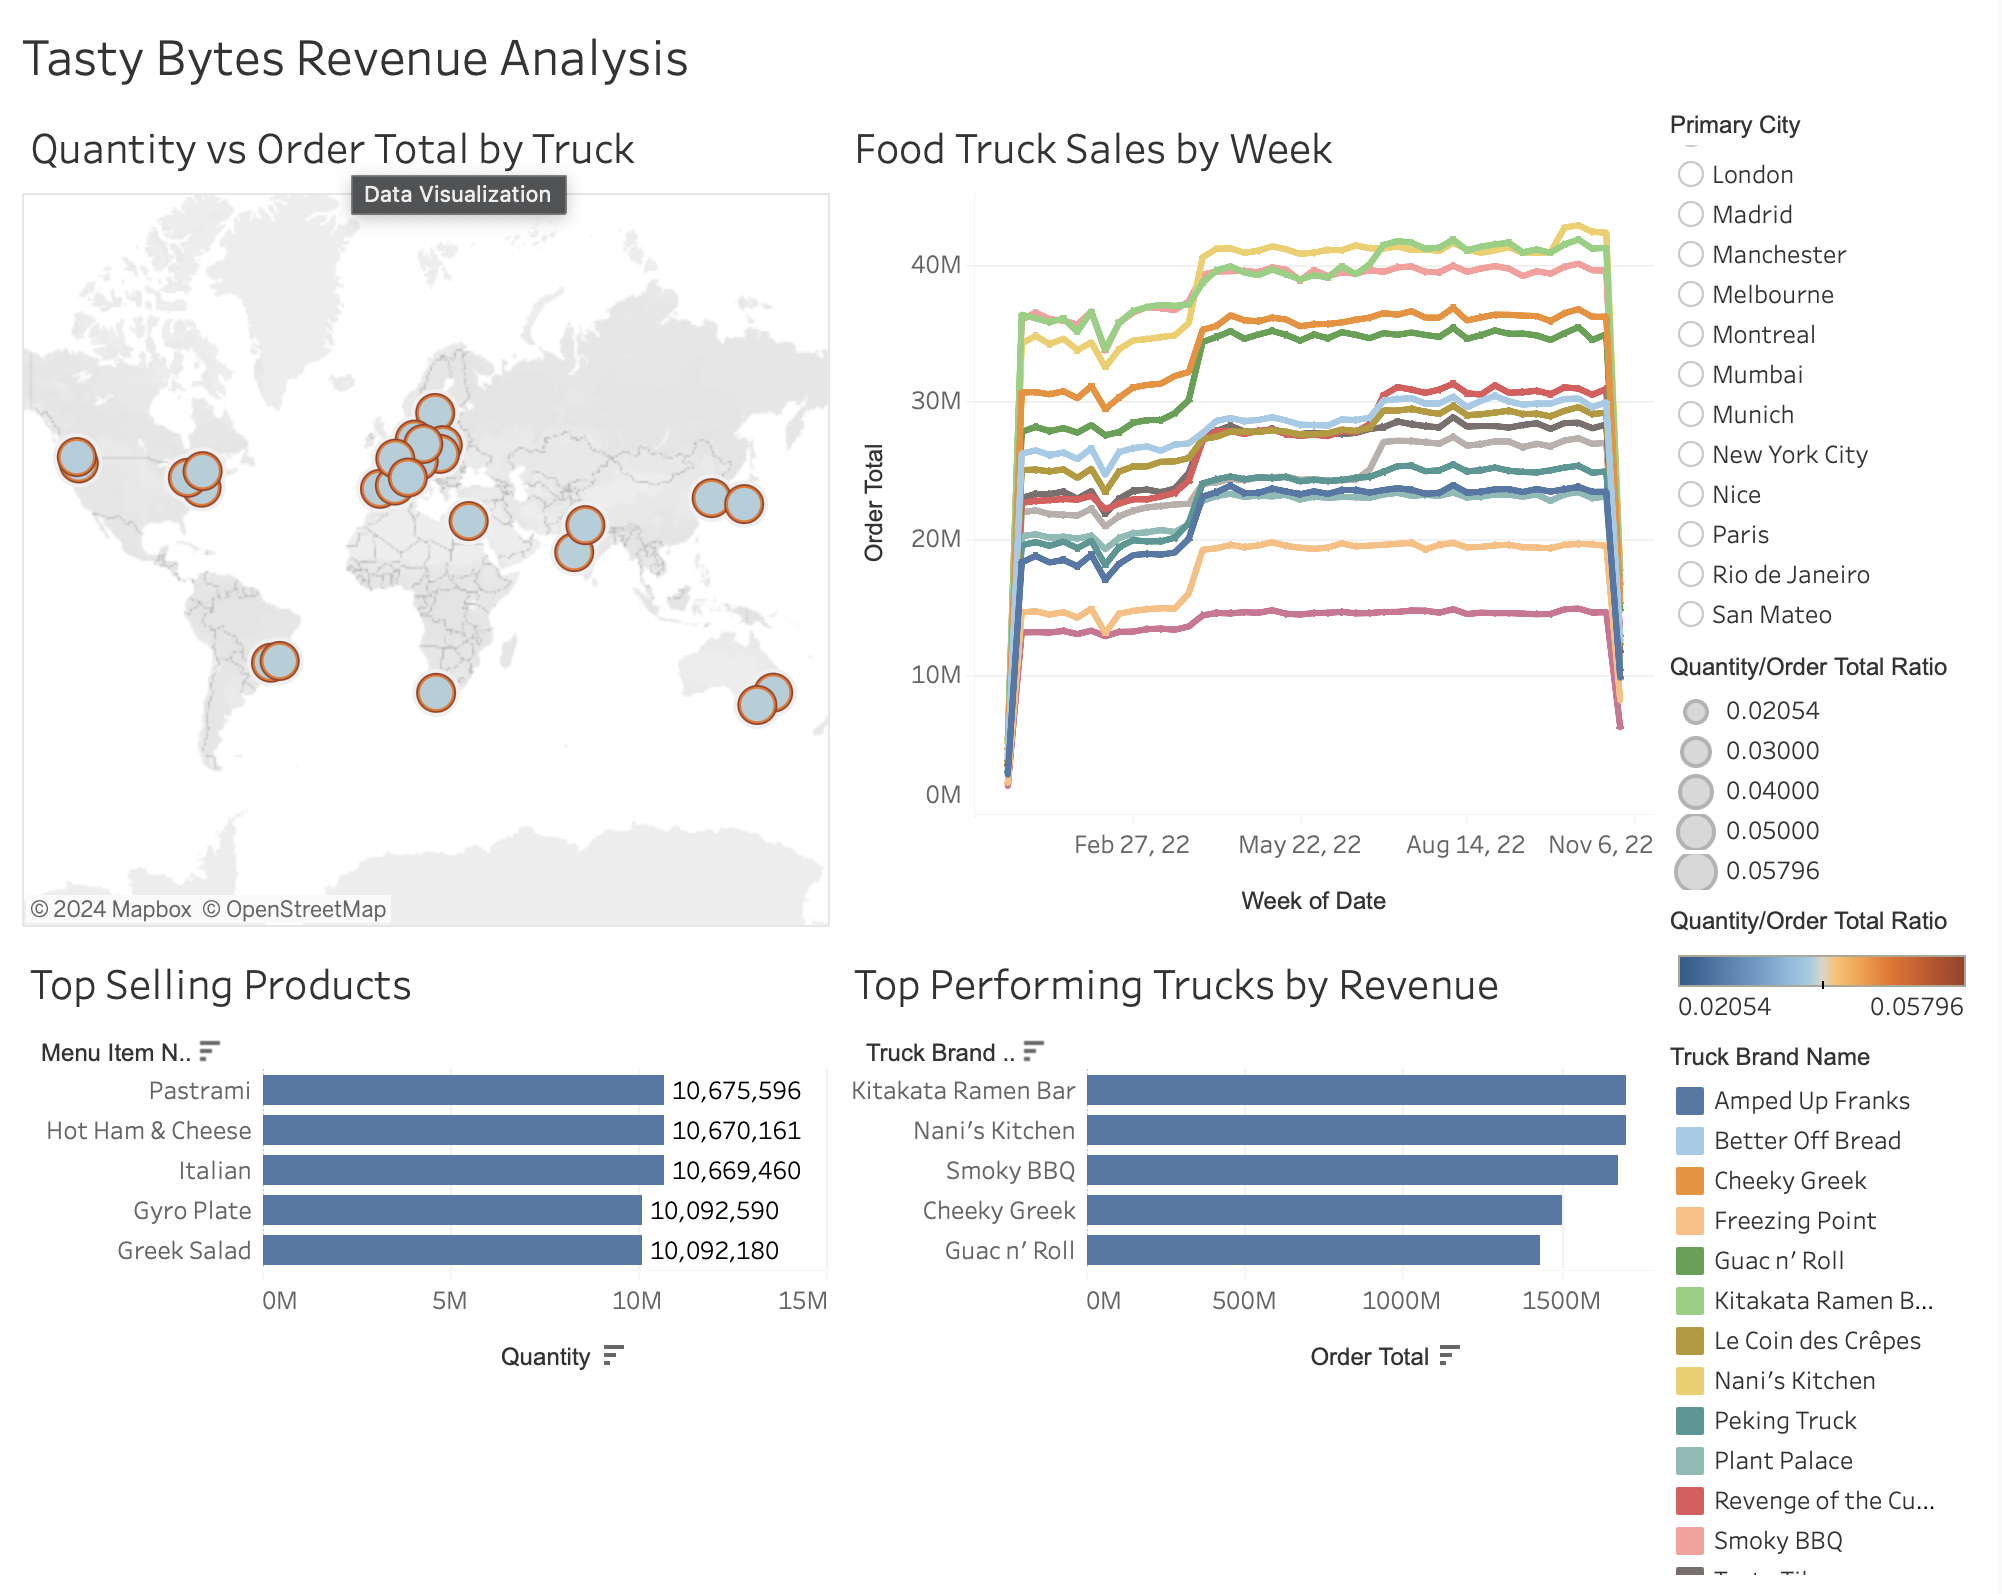

The dashboard page shown, as its layout file describes it:
{"tool":"tableau","page":{"name":"Tasty Bytes Revenue Analysis","canvas":[1000,800],"ordinal":0},"visuals":[{"type":"title","box":[8,8,984,42]},{"type":"worksheet","title":"Quantity vs Order Total by Truck","mark":"Automatic","box":[8,50,412,418.3]},{"type":"worksheet","title":"Food Truck Sales by Week","mark":"Automatic","rows":["ORDER_TOTAL"],"cols":["DATE"],"box":[420,50,412,418.3]},{"type":"filter","title":"Quantity vs Order Total by Truck","param":"[federated.1tvct66041l70m1bdj5ji08xsm1l].[none:PRIMARY_CITY:nk]","box":[832,50,160,273.5]},{"type":"legend","title":"Quantity vs Order Total by Truck","param":"[federated.1tvct66041l70m1bdj5ji08xsm1l].[usr:Calculation_15199684332965905:qk]","box":[832,323.5,160,127]},{"type":"legend","title":"Quantity vs Order Total by Truck","param":"[federated.1tvct66041l70m1bdj5ji08xsm1l].[usr:Calculation_15199684332965905:qk]","box":[832,450.5,160,68]},{"type":"worksheet","title":"Top Selling Products","mark":"Automatic","rows":["MENU_ITEM_NAME"],"cols":["QUANTITY"],"box":[8,468.3,412,323.7]},{"type":"worksheet","title":"Top Performing Trucks by Revenue","mark":"Automatic","rows":["TRUCK_BRAND_NAME"],"cols":["ORDER_TOTAL"],"box":[420,468.3,412,323.7]},{"type":"legend","title":"Food Truck Sales by Week","param":"[federated.1tvct66041l70m1bdj5ji08xsm1l].[none:TRUCK_BRAND_NAME:nk]","box":[832,518.5,160,273.5]}]}

Visuals, with their boxes in screenshot pixels (x1, y1, x2, y2), scaled from the page's 1000x800 canvas onto the 2002x1594 screenshot:
title: (left=16, top=16, right=1986, bottom=100)
"Quantity vs Order Total by Truck" worksheet: (left=16, top=100, right=841, bottom=933)
"Food Truck Sales by Week" worksheet: (left=841, top=100, right=1666, bottom=933)
"Quantity vs Order Total by Truck" filter: (left=1666, top=100, right=1986, bottom=645)
"Quantity vs Order Total by Truck" legend: (left=1666, top=645, right=1986, bottom=898)
"Quantity vs Order Total by Truck" legend: (left=1666, top=898, right=1986, bottom=1033)
"Top Selling Products" worksheet: (left=16, top=933, right=841, bottom=1578)
"Top Performing Trucks by Revenue" worksheet: (left=841, top=933, right=1666, bottom=1578)
"Food Truck Sales by Week" legend: (left=1666, top=1033, right=1986, bottom=1578)
